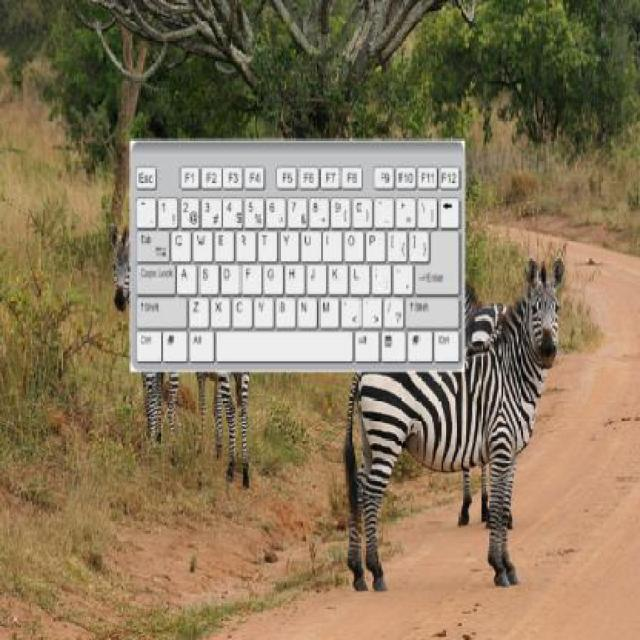keyboard: (120, 133, 479, 383)
